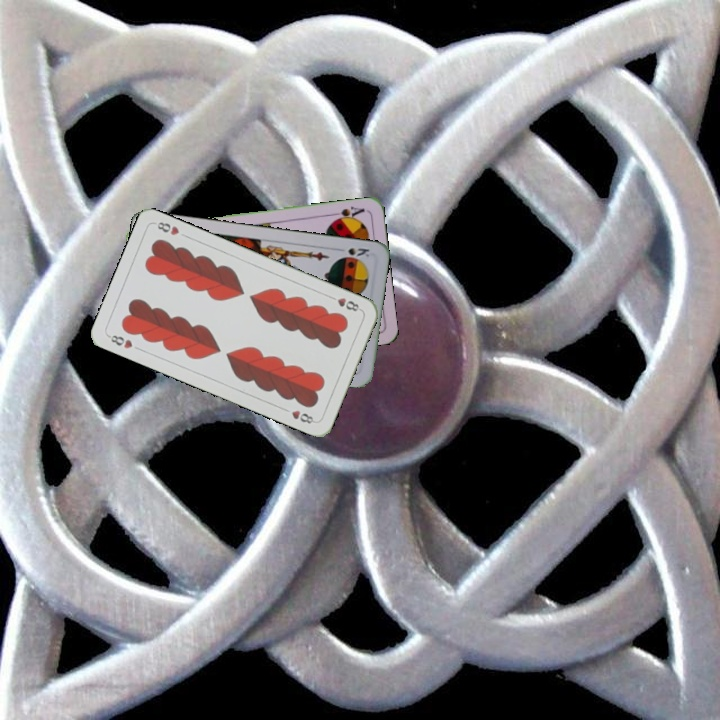H8: (325, 292, 364, 314), (104, 331, 135, 351)
SA: (328, 202, 367, 224)
SK: (338, 243, 372, 262)
